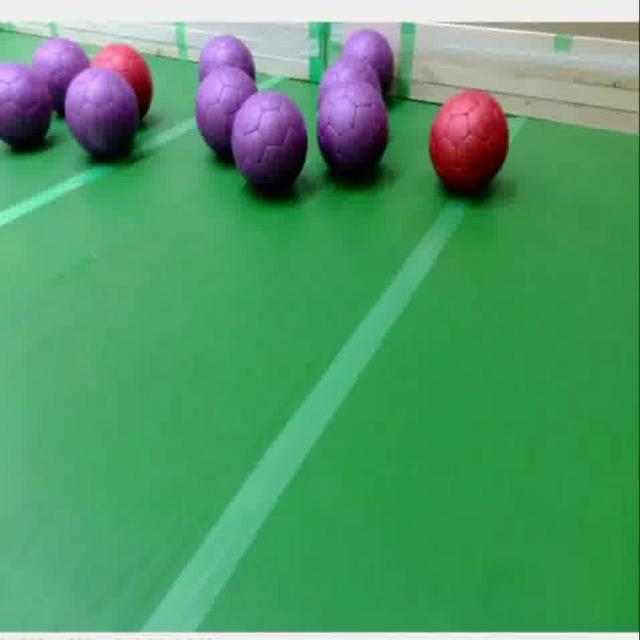purple_ball: (317, 83, 389, 187), (230, 94, 306, 188), (62, 78, 138, 158), (198, 66, 258, 155), (0, 64, 54, 154), (29, 37, 90, 110), (342, 26, 398, 87), (200, 36, 258, 86), (318, 62, 384, 85)
red_ball: (429, 94, 514, 198), (120, 48, 160, 85)
